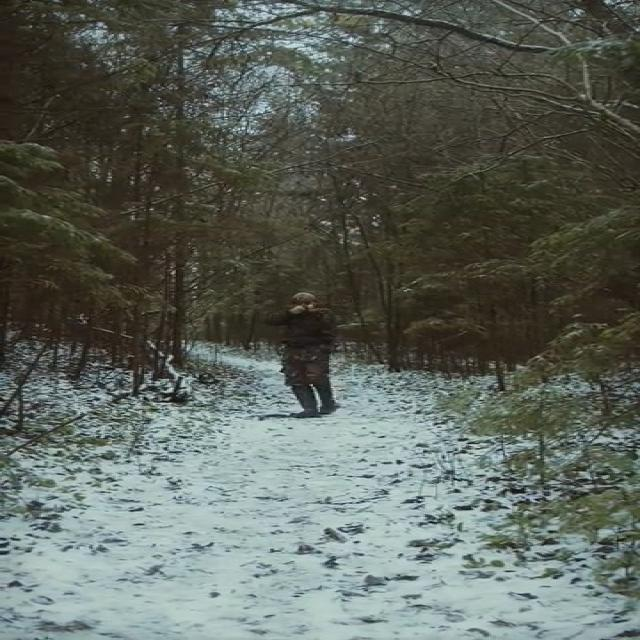Gun_Holder: (286, 304, 339, 314)
Person: (276, 294, 349, 416)
